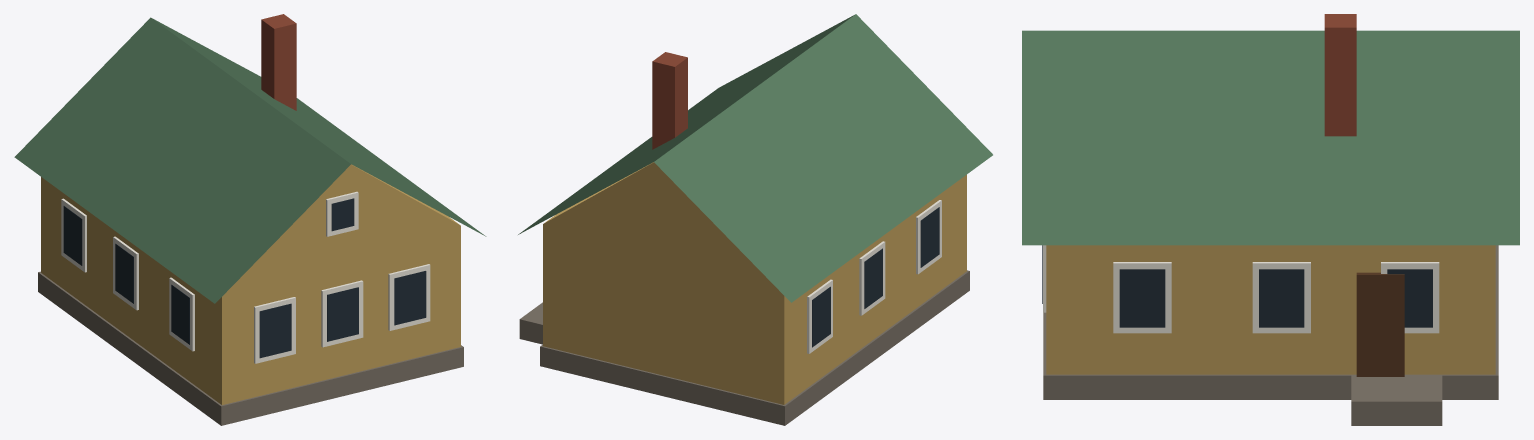
Rendered from izba_ochre_green.glb.
3 views of the same model, side by side, from view 1: azimuth 30°, elevation 25°; view 2: azimuth 150°, elevation 25°; view 3: azimuth 270°, elevation 25° (orthographic). The views are drawn at different scales.
Visible parts, largest first — view 1: izba_ochre_green; view 2: izba_ochre_green; view 3: izba_ochre_green.
Part boxes in pixels (<box>): izba_ochre_green: <box>14,14,486,425</box>; izba_ochre_green: <box>518,14,992,425</box>; izba_ochre_green: <box>1022,14,1519,425</box>.
Bounding box in the file's own units: 8.05 × 7 × 9.3.
